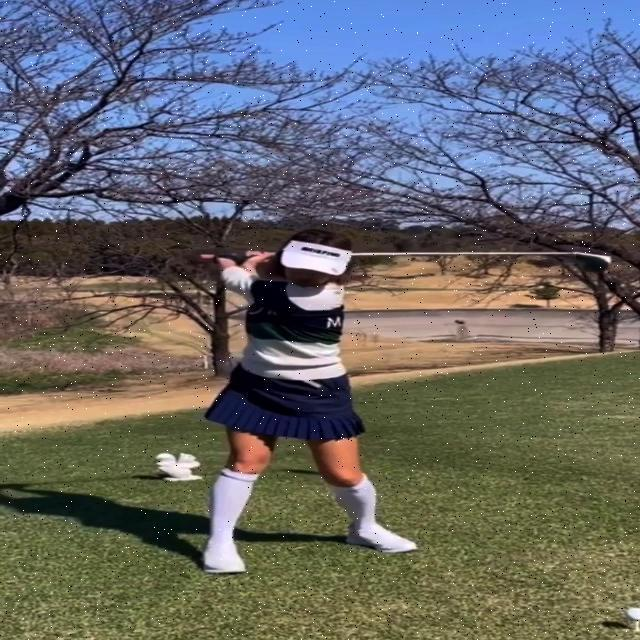ClubHead: (576, 253, 609, 273)
GolfBall: (627, 608, 640, 619)
